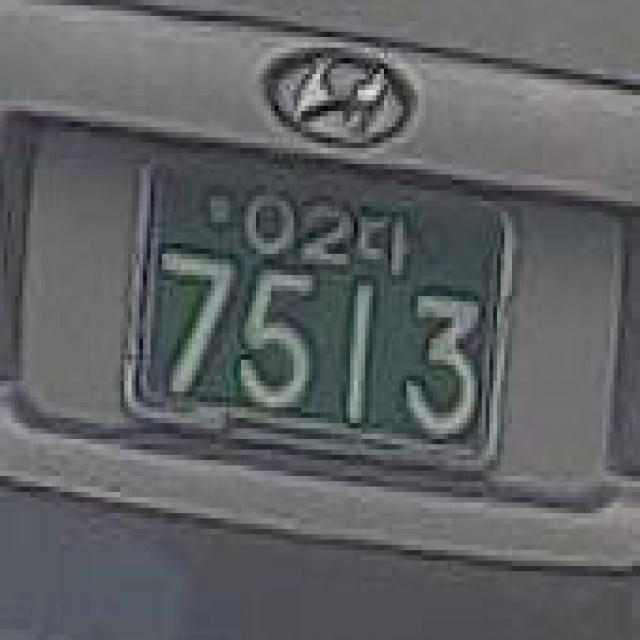illegal_plate: (113, 124, 530, 499)
